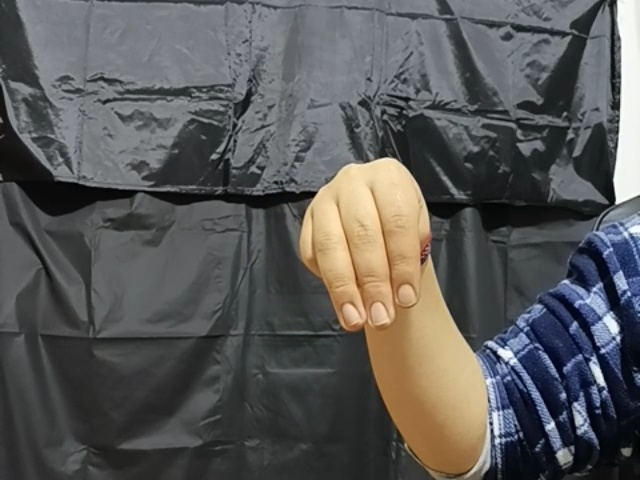M: (295, 154, 449, 336)
